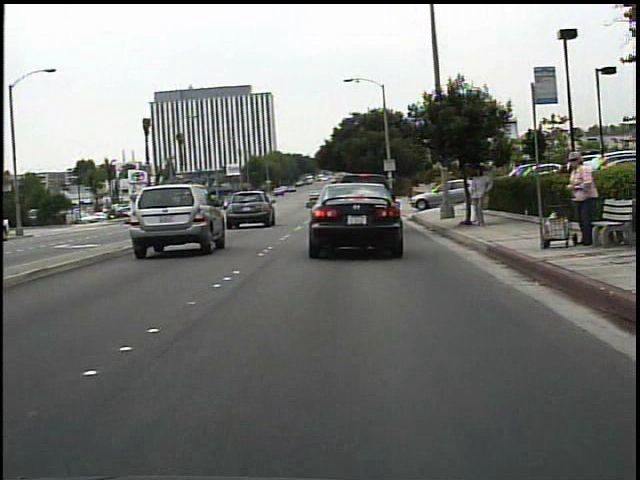person: (559, 148, 603, 251), (468, 160, 496, 228)
